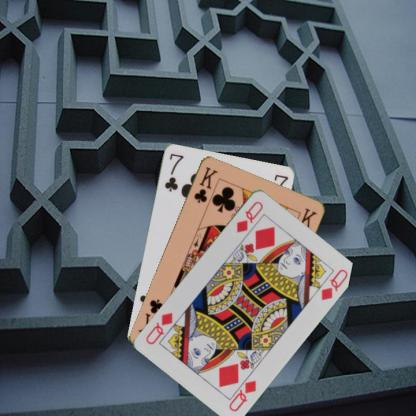7c: (162, 150, 185, 193)
Kc: (191, 164, 219, 204)
Qd: (226, 370, 258, 413), (233, 198, 264, 234)
